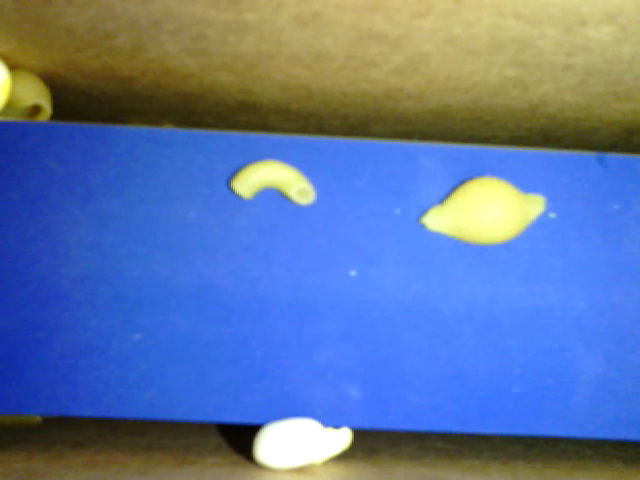elbow: (229, 160, 317, 205)
shell: (423, 176, 550, 247), (1, 64, 54, 123)
